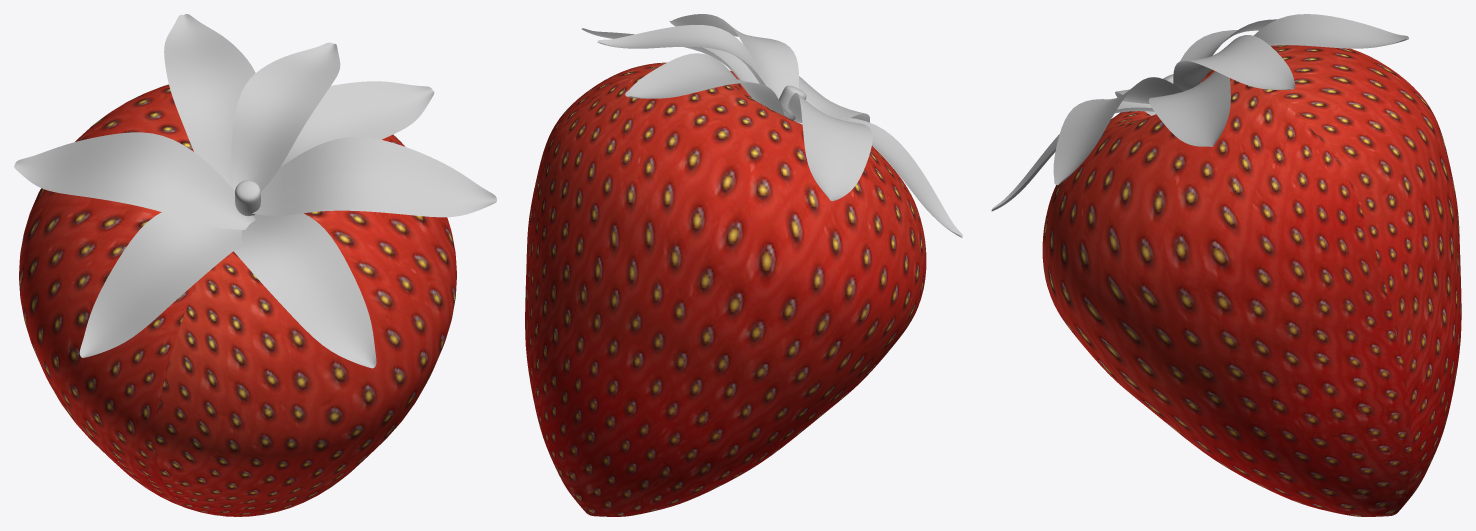
The model's file is strawberry.fbx.
3 views of the same model, side by side, from view 1: azimuth 30°, elevation 25°; view 2: azimuth 150°, elevation 25°; view 3: azimuth 270°, elevation 25° (orthographic). The views are drawn at different scales.
Parts seen in each view (by area): view 1: Strawberry, Strawberry_stem; view 2: Strawberry, Strawberry_stem; view 3: Strawberry, Strawberry_stem.
Boxes of the visible parts, x1,y1,x2,y2 form: Strawberry: (19,84,456,516); Strawberry_stem: (14,14,496,368); Strawberry: (525,62,926,516); Strawberry_stem: (581,14,962,237); Strawberry: (1042,45,1461,516); Strawberry_stem: (991,14,1408,211).
Bounding box in the file's own units: 0.181 × 0.2094 × 0.1948.
